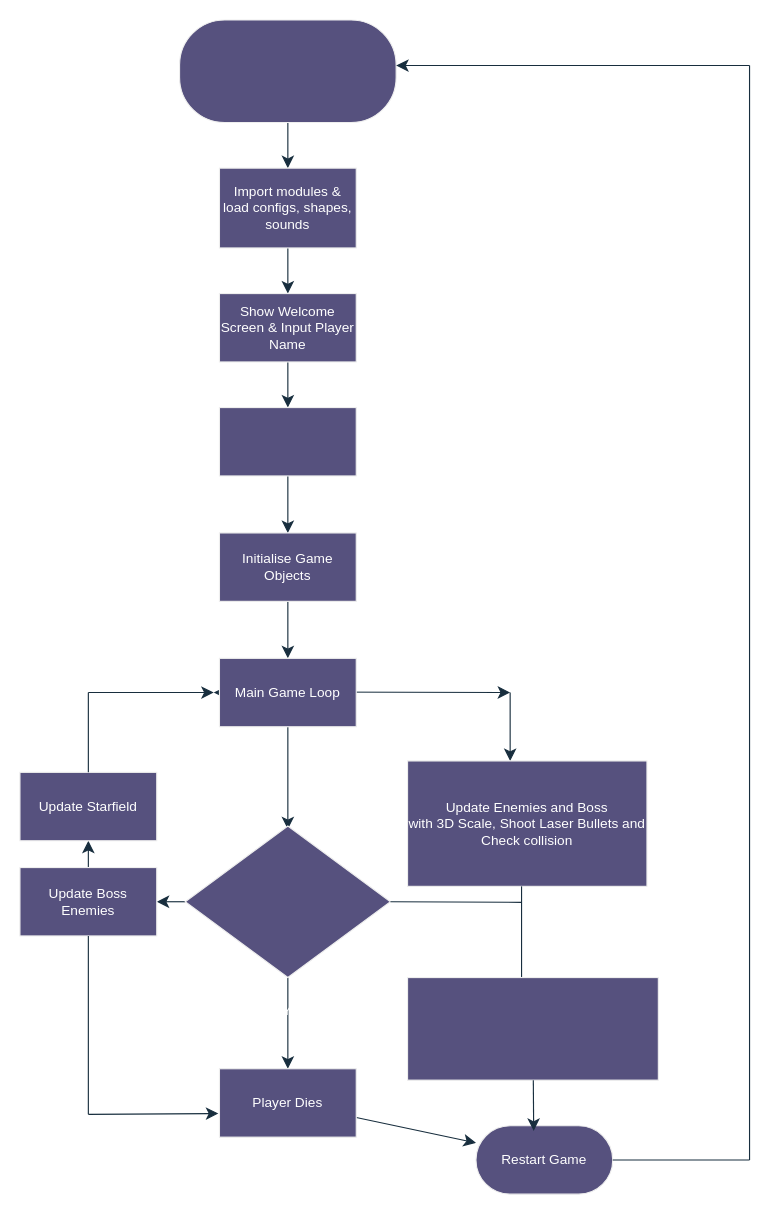
The diagram is 771 pixels wide and 1214 high, and some of its shapes have lost their labels. Each missing label, with the centre of its shape:
Check player health: the point at 287,901
Primus Galactic - START: the point at 287,71
Show Player Card with Name, Title, Faction.: the point at 287,441
Update UI - Score - Health - Best Score: the point at 532,1028
